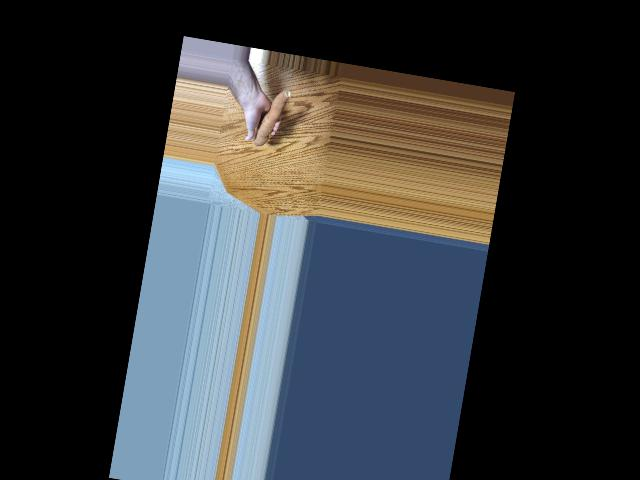sweet_potato: (252, 84, 291, 150)
